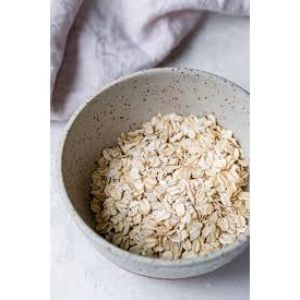oat_brain food: (110, 133, 234, 227)
